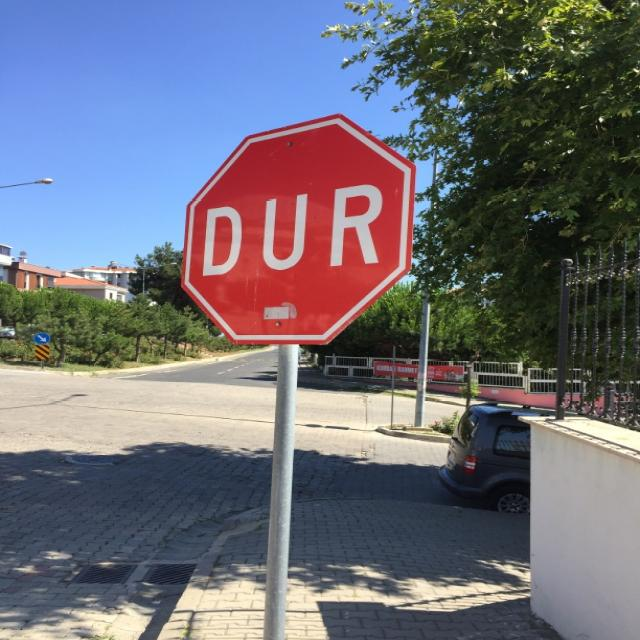dur: (182, 112, 416, 346)
